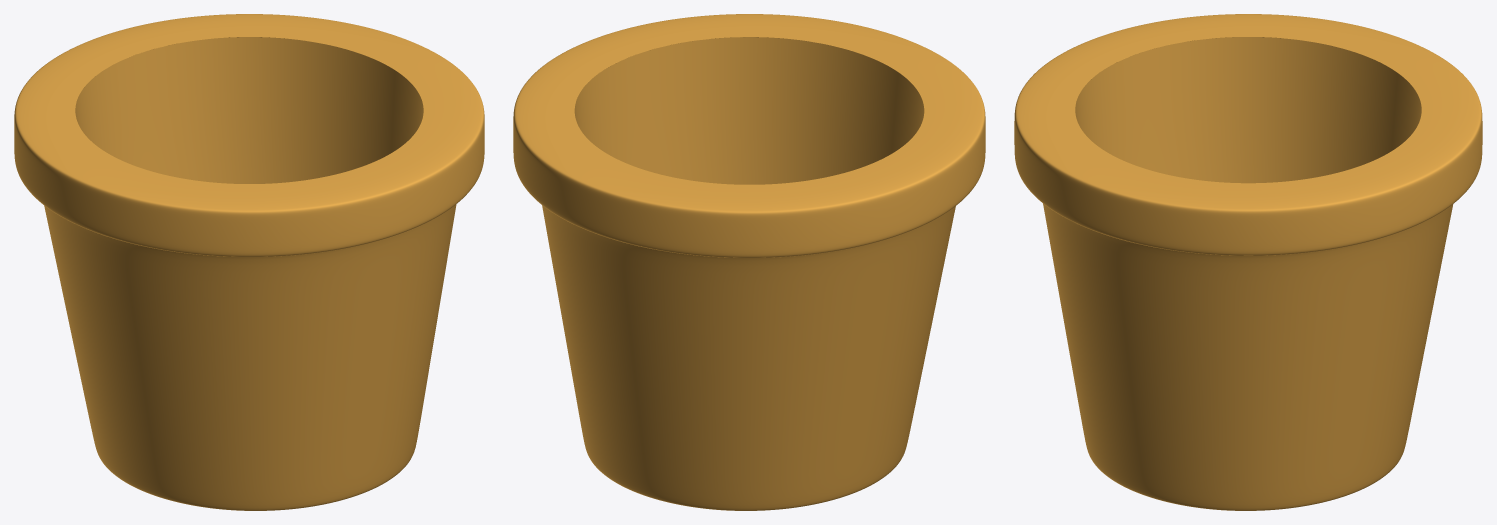
File: bucket.fbx
3 views of the same model, side by side, from view 1: azimuth 30°, elevation 25°; view 2: azimuth 150°, elevation 25°; view 3: azimuth 270°, elevation 25° (orthographic).
Visible parts, largest first — view 1: Cylinder; view 2: Cylinder; view 3: Cylinder.
Part boxes in pixels (box(x1,y1,x2,y2)): Cylinder: box(14, 14, 484, 510); Cylinder: box(513, 14, 985, 510); Cylinder: box(1014, 14, 1482, 510).
Bounding box in the file's own units: 718 × 563 × 718.
